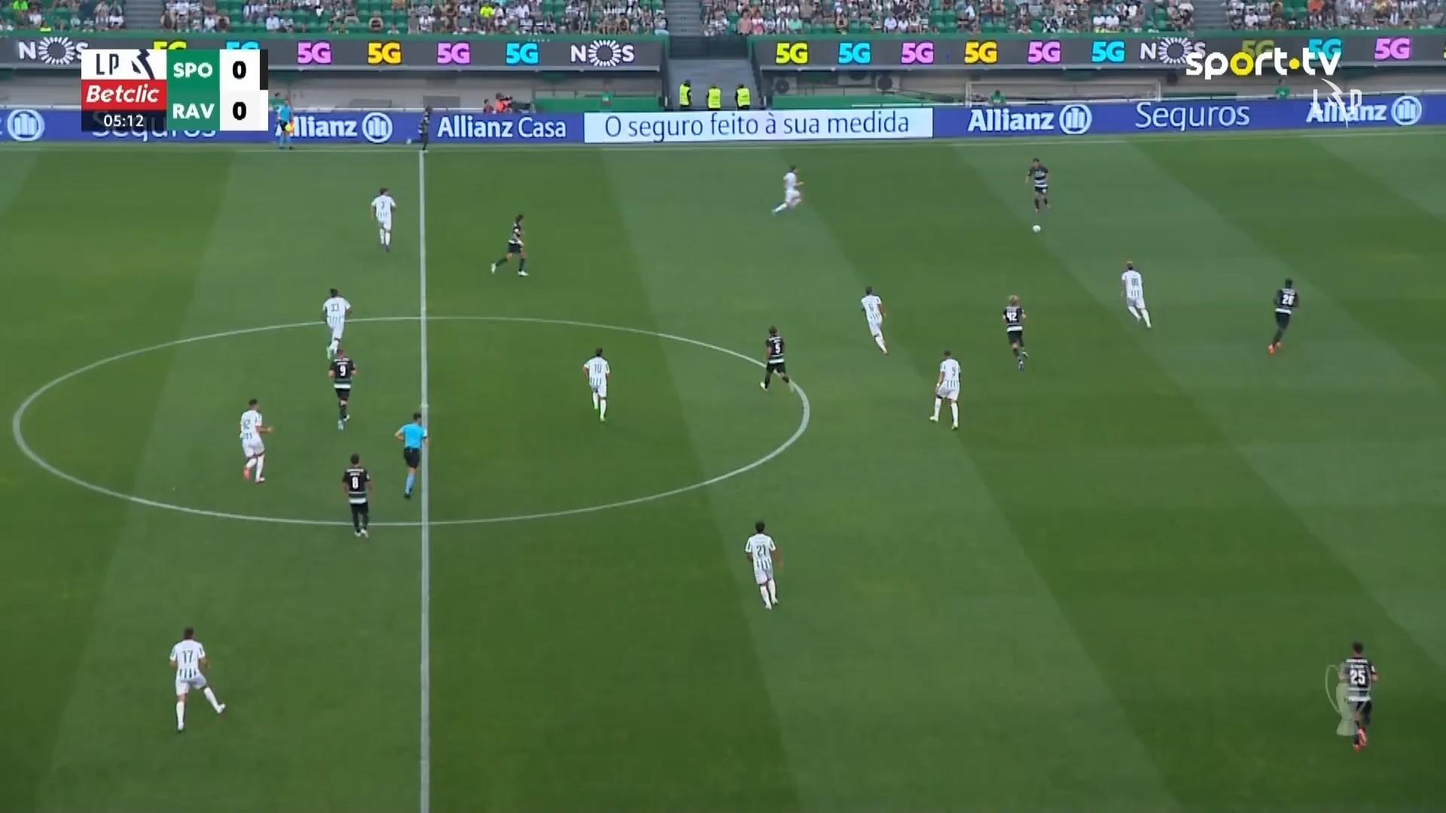ball: (1032, 224, 1041, 233)
player: (168, 626, 226, 732), (1335, 640, 1377, 751), (743, 519, 782, 610), (239, 397, 274, 483), (340, 452, 372, 537), (929, 349, 961, 430), (1267, 277, 1299, 354), (490, 213, 529, 276), (328, 348, 356, 431), (321, 287, 352, 361), (581, 347, 610, 422), (1120, 260, 1152, 327), (758, 325, 790, 391), (1002, 294, 1029, 370), (859, 285, 888, 354), (770, 163, 804, 215), (370, 186, 396, 251), (1025, 157, 1050, 213), (417, 105, 432, 153)
referee: (394, 411, 428, 498), (273, 97, 295, 150)
